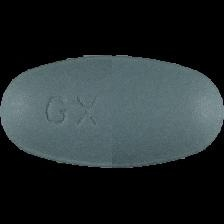49702-217: (0, 0, 224, 224)
